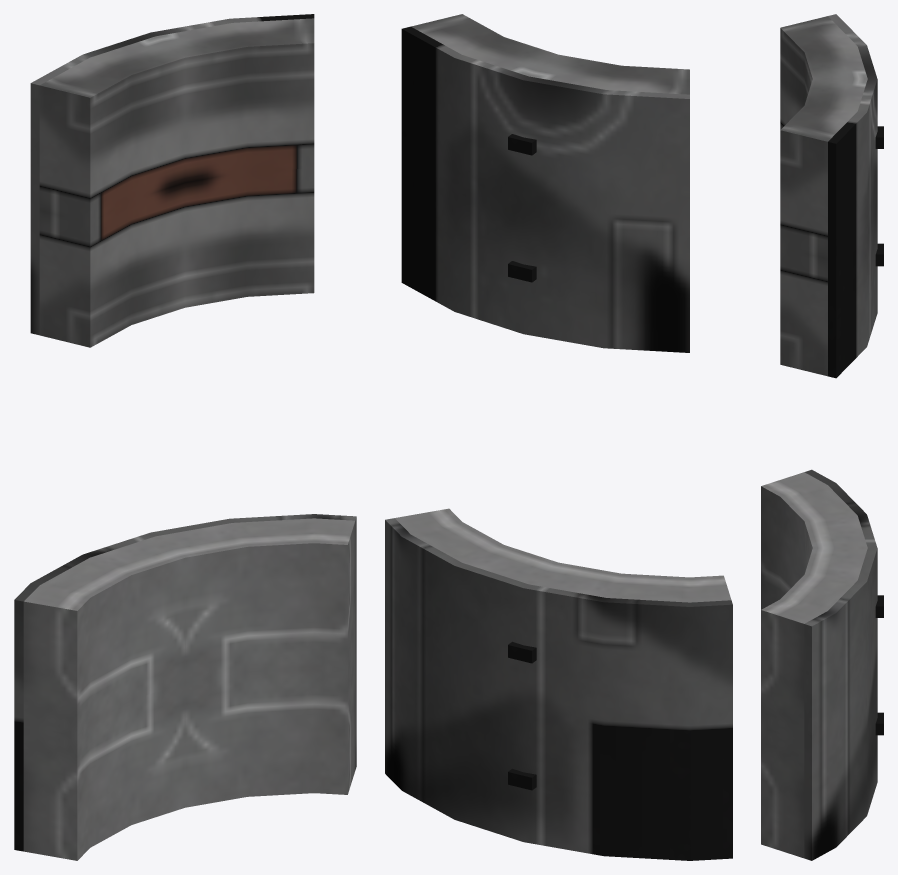
File: radiators.obj
The picture shows the model from 3 angles, left to right: view 1: azimuth 30°, elevation 25°; view 2: azimuth 150°, elevation 25°; view 3: azimuth 270°, elevation 25°; orthographic projection. The views are drawn at different scales.
Visible parts, largest first — view 1: 1; view 2: 1; view 3: 1.
Part boxes in pixels (<box>): 1: <box>14,14,356,860</box>; 1: <box>385,14,732,860</box>; 1: <box>761,14,883,860</box>.
Size of the model in its own units: 1.43 by 3 by 0.4751.
